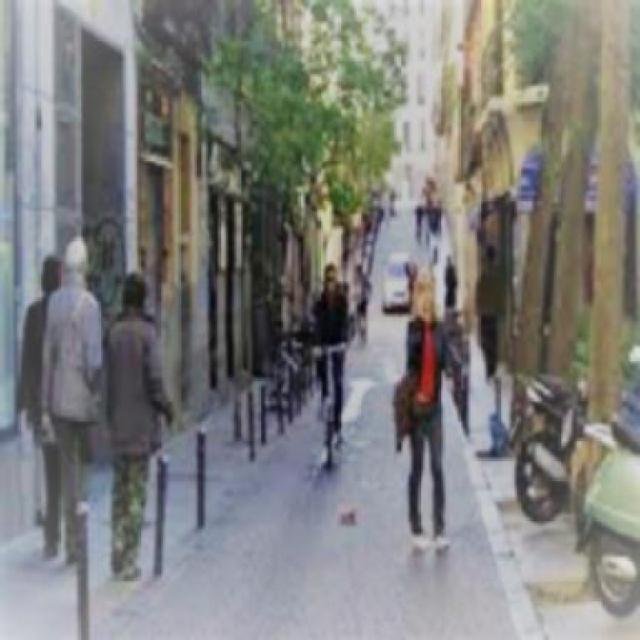Person: (108, 265, 182, 589), (45, 234, 112, 560), (399, 264, 463, 554), (305, 256, 347, 435), (472, 240, 512, 382)
